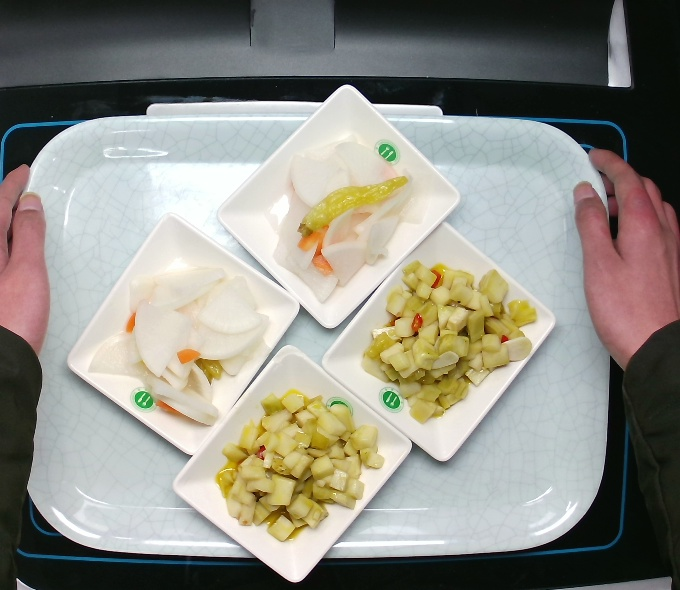wcq-LuLuoBo: (86, 249, 278, 424), (262, 138, 434, 306)
wcq-TangCuOu: (359, 257, 539, 425), (211, 388, 393, 539)
